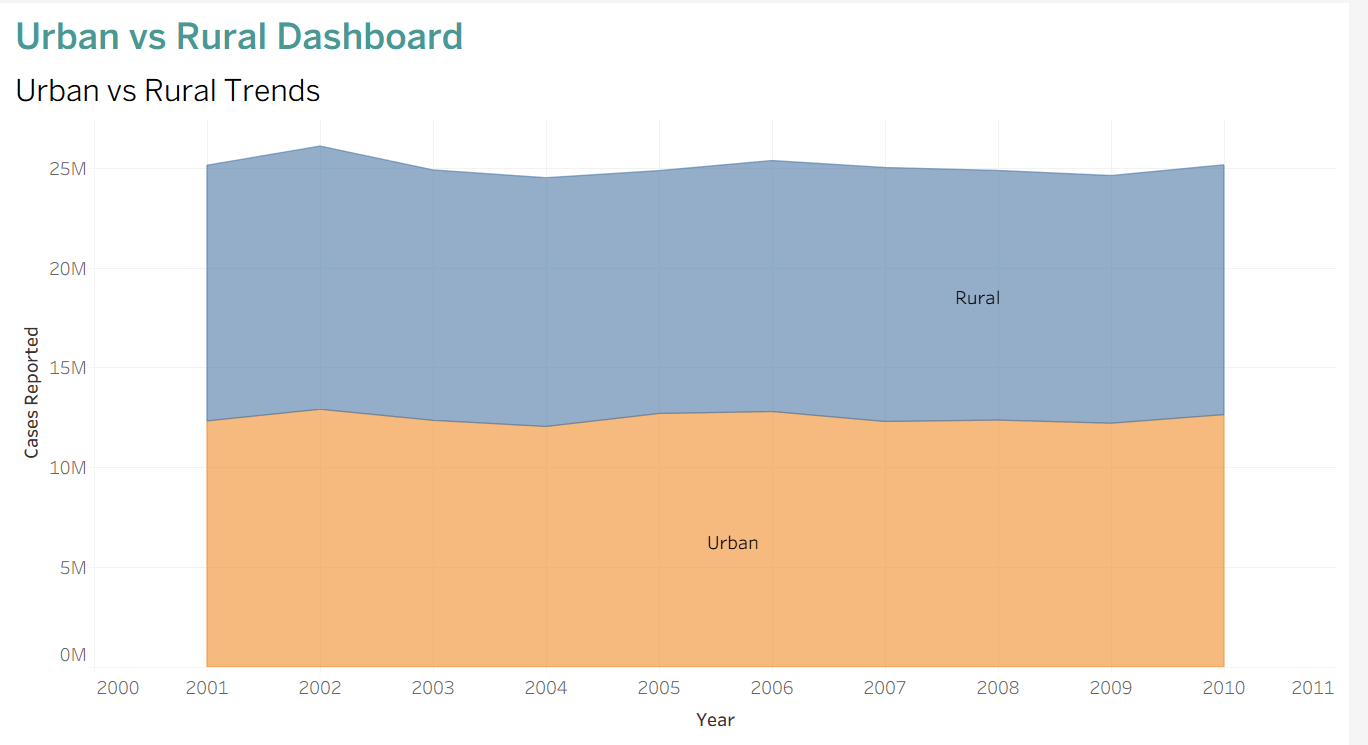

What the dashboard file says about the page in this screenshot:
{"tool":"tableau","page":{"name":"Dashboard 4","canvas":[1000,1000],"units":"permille","ordinal":3},"visuals":[{"type":"title","box":[5.9,10.7,988.1,69.6]},{"type":"worksheet","title":"Sheet 7","mark":"Area","rows":["Cases_Reported"],"cols":["Year"],"box":[5.9,80.3,988.1,909]}]}

Visuals, with their boxes on the dashboard's canvas, which has no fixed pixel size, in thousandths of its width and height (x1, y1, x2, y2). These are canvas units, not pixel positions in the 1368x745 screenshot, which may show the page scaled, cropped or inside an application window:
title: x1=6 y1=11 x2=994 y2=80
"Sheet 7" worksheet (Area marks): x1=6 y1=80 x2=994 y2=989
